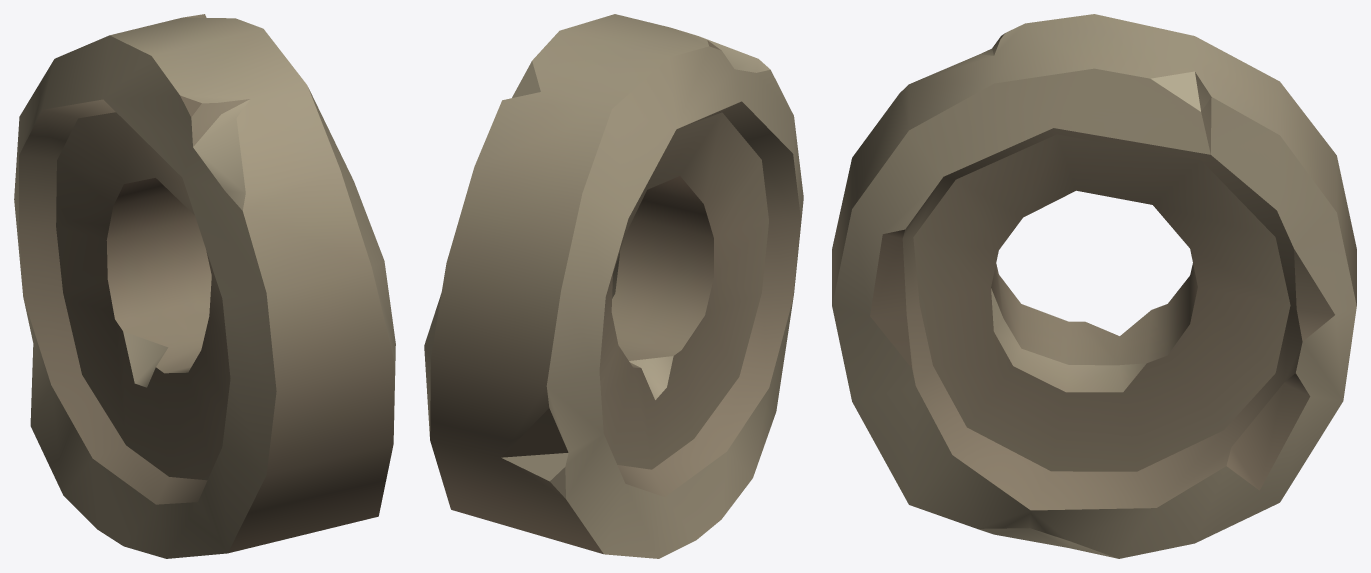
The model's file is Wheel_1A.fbx.
The picture shows the model from 3 angles, left to right: view 1: azimuth 30°, elevation 25°; view 2: azimuth 150°, elevation 25°; view 3: azimuth 270°, elevation 25°; orthographic projection. The views are drawn at different scales.
Visible parts, largest first — view 1: Wheel_1A; view 2: Wheel_1A; view 3: Wheel_1A.
Part boxes in pixels (left/top/right/bottom): Wheel_1A: left=14, top=14, right=395, bottom=558; Wheel_1A: left=424, top=14, right=803, bottom=558; Wheel_1A: left=832, top=14, right=1356, bottom=558.
Size of the model in its own units: 0.7856 by 1.78 by 1.79.
